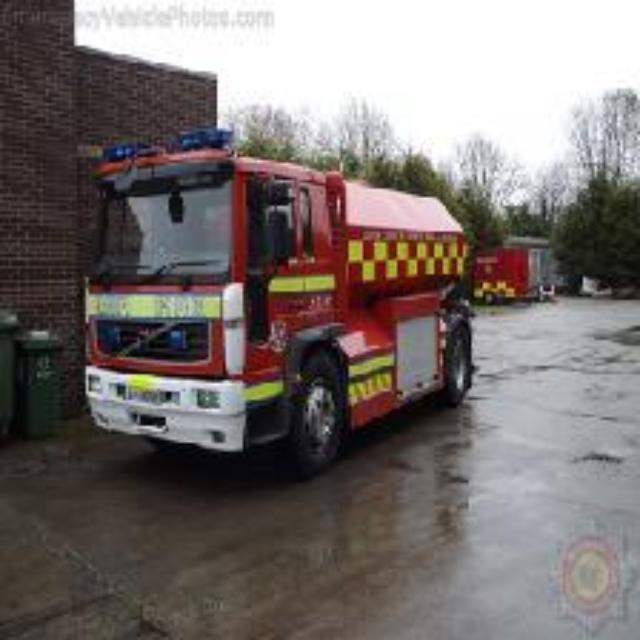emergency: (82, 129, 470, 449)
